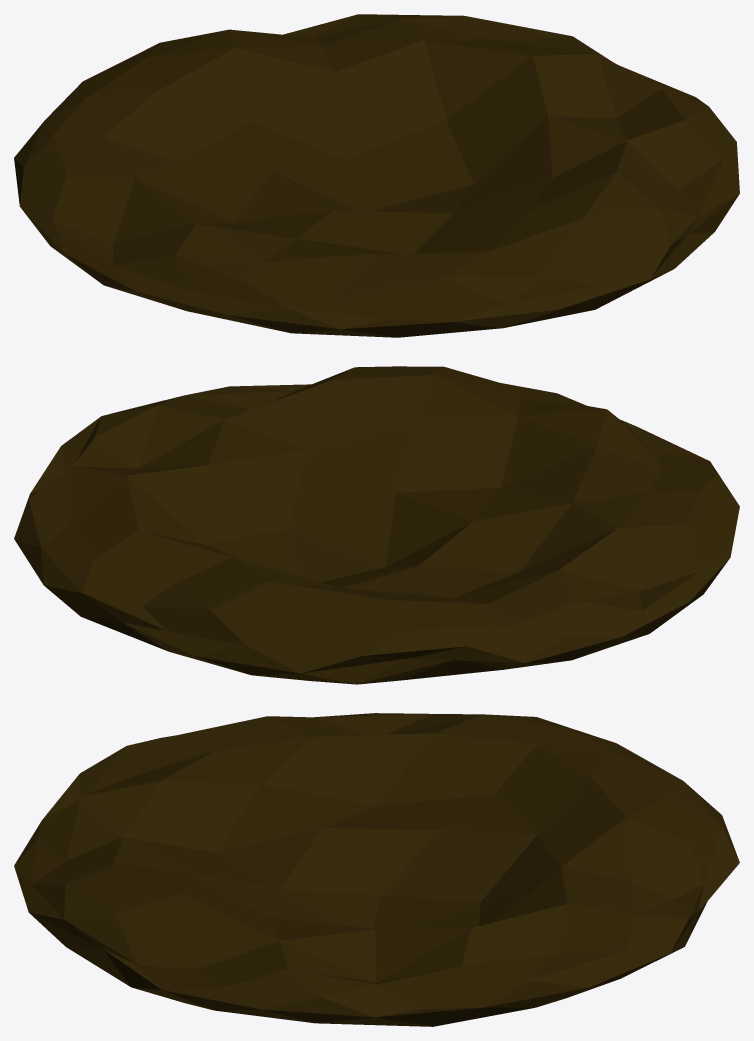
Rendered from Trace.fbx.
3 views of the same model, one above another, from view 1: azimuth 30°, elevation 25°; view 2: azimuth 150°, elevation 25°; view 3: azimuth 270°, elevation 25° (orthographic).
Parts seen in each view (by area): view 1: Icosphere; view 2: Icosphere; view 3: Icosphere.
Part boxes in pixels (left/top/right/bottom): Icosphere: left=14, top=14, right=739, bottom=337; Icosphere: left=14, top=366, right=739, bottom=684; Icosphere: left=14, top=713, right=739, bottom=1026.
Bounding box in the file's own units: 364 × 52.28 × 365.
